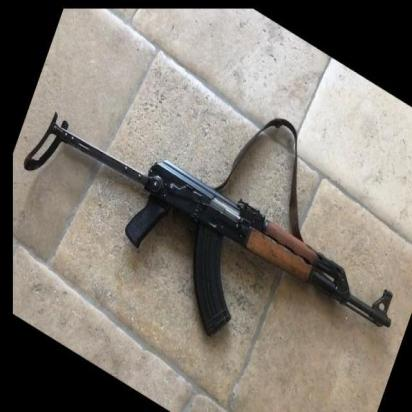Gun: (23, 111, 394, 335)
